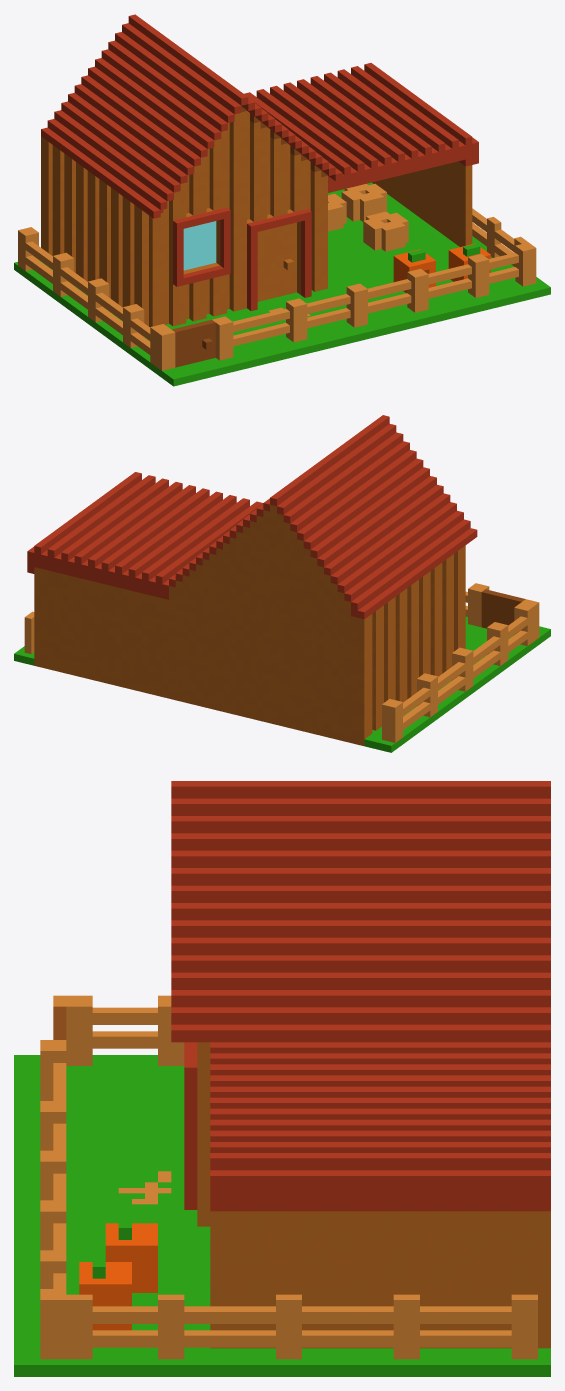
The model's file is home1.fbx.
3 renders of one model, top to bottom at view 1: azimuth 30°, elevation 25°; view 2: azimuth 150°, elevation 25°; view 3: azimuth 270°, elevation 25°, orthographic. The views are drawn at different scales.
Parts seen in each view (by area): view 1: ObjObject.007; view 2: ObjObject.007; view 3: ObjObject.007.
Boxes of the visible parts, x1,y1,x2,y2 form: ObjObject.007: (14,14,550,386); ObjObject.007: (14,415,550,752); ObjObject.007: (14,781,550,1376).
Size of the model in its own units: 560 by 320 by 410.
Materials: 1 (1 with a texture image).
